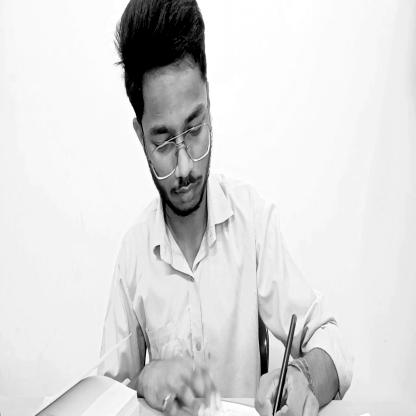Distracted: (142, 52, 208, 216)
